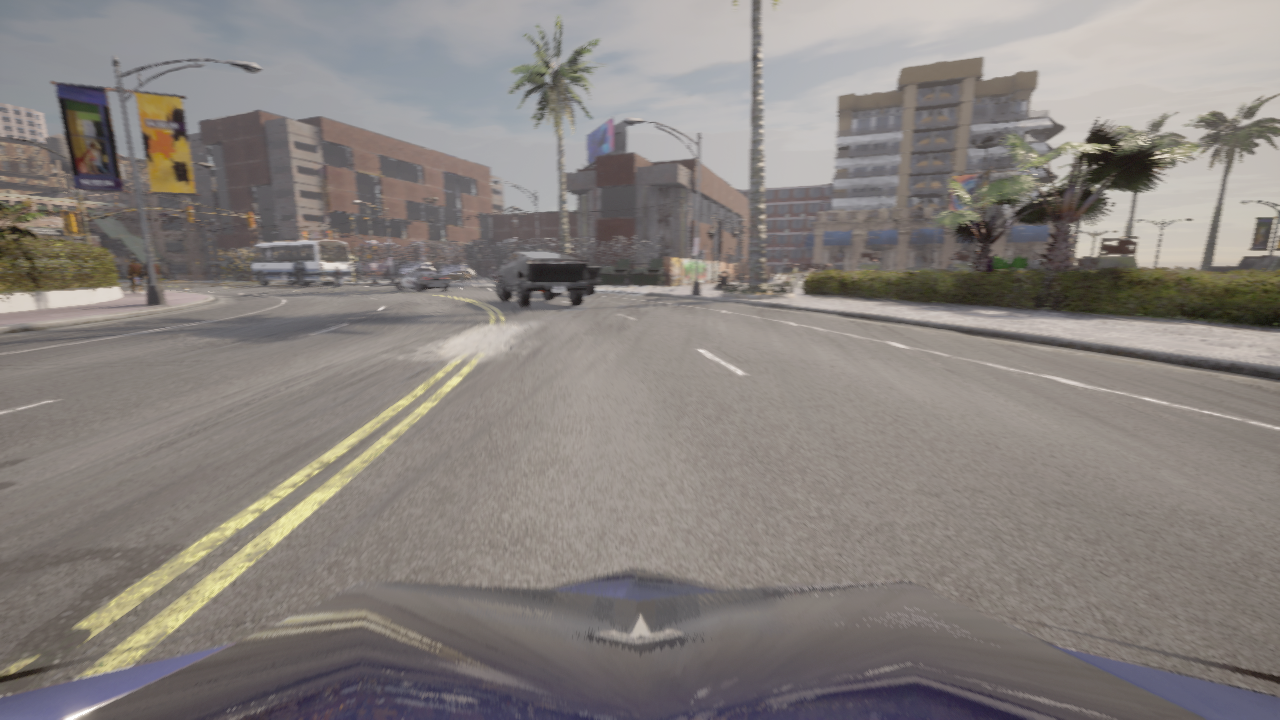cyclist: (0, 569, 1279, 719), (495, 250, 588, 307), (246, 239, 351, 286), (557, 262, 601, 295), (396, 268, 450, 292), (440, 264, 475, 277), (400, 263, 433, 274), (446, 271, 472, 280), (331, 278, 344, 287), (602, 264, 613, 268), (489, 275, 498, 279), (403, 273, 406, 275)
pedestrian: (128, 259, 143, 293), (144, 261, 159, 284), (153, 259, 163, 292), (133, 274, 143, 293)
